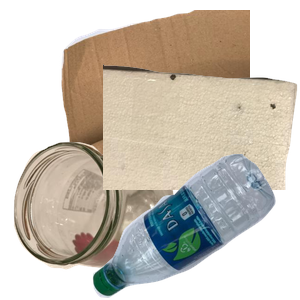cardboard: (43, 10, 283, 190)
glass: (11, 139, 179, 300)
plastic: (90, 154, 300, 300)
trash: (103, 62, 300, 242)
